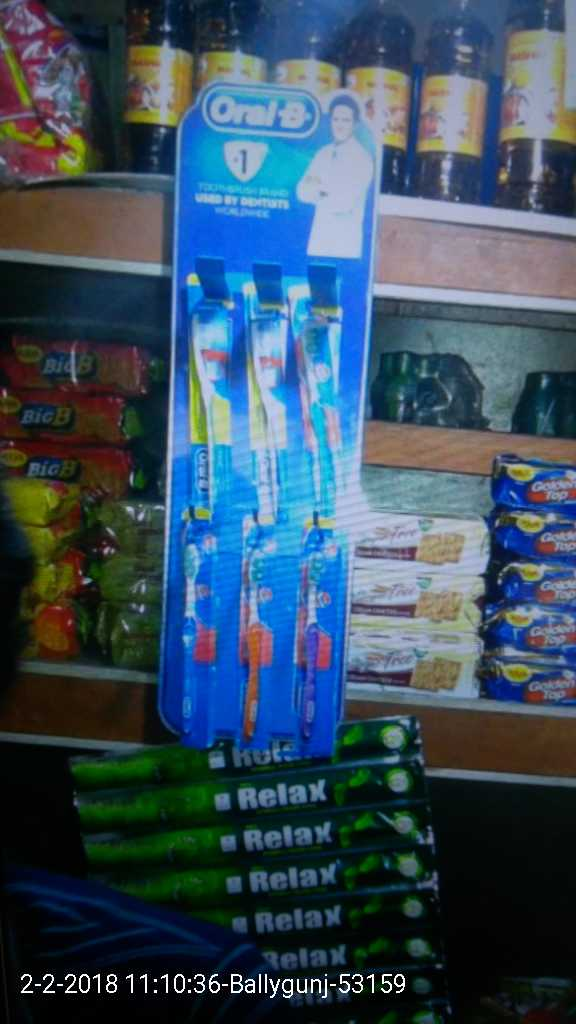oralb: (287, 301, 362, 537), (177, 292, 240, 521), (242, 287, 294, 521), (174, 531, 217, 737), (290, 536, 330, 744), (234, 531, 272, 746)
